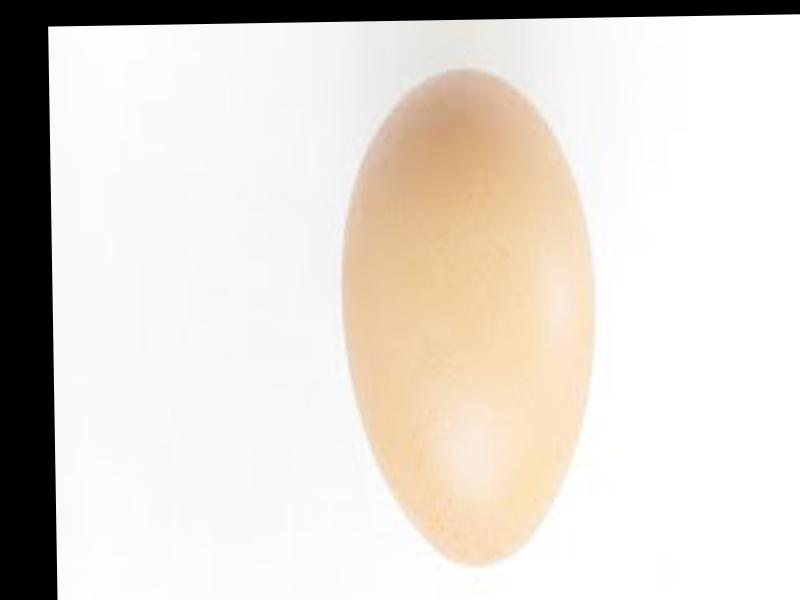Eggs: (337, 70, 597, 568)
